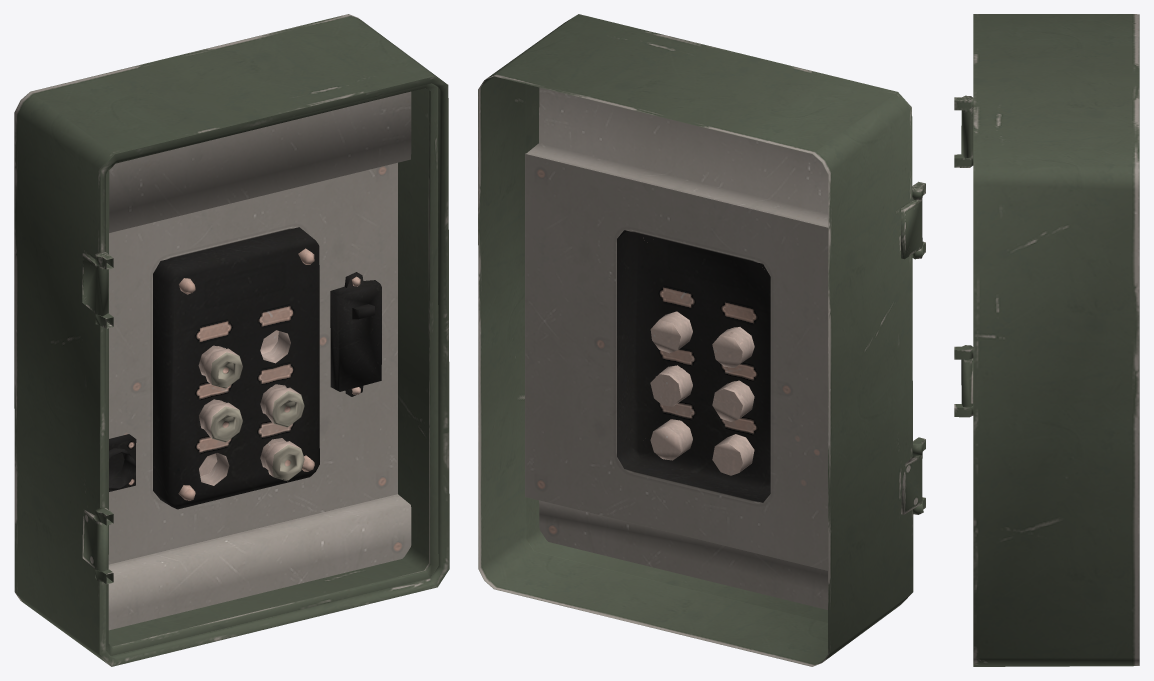
The model's file is FuseBox.fbx.
3 renders of one model, left to right at view 1: azimuth 30°, elevation 25°; view 2: azimuth 150°, elevation 25°; view 3: azimuth 270°, elevation 25°, orthographic. The views are drawn at different scales.
Visible parts, largest first — view 1: Fuse_Box; view 2: Fuse_Box; view 3: Fuse_Box.
Part boxes in pixels (box(x1,y1,x2,y2)): Fuse_Box: box(14, 14, 449, 666); Fuse_Box: box(478, 14, 925, 666); Fuse_Box: box(954, 14, 1139, 666).
Bounding box in the file's own units: 76.12 × 105 × 35.1.
